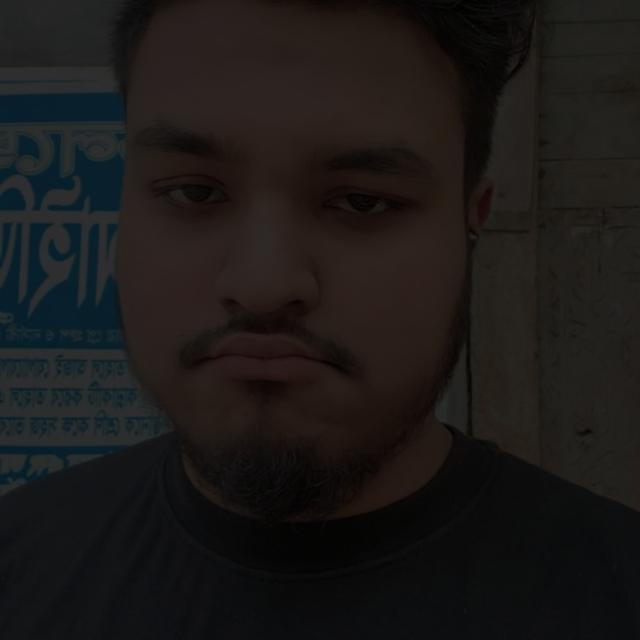Sad: (57, 35, 477, 507)
